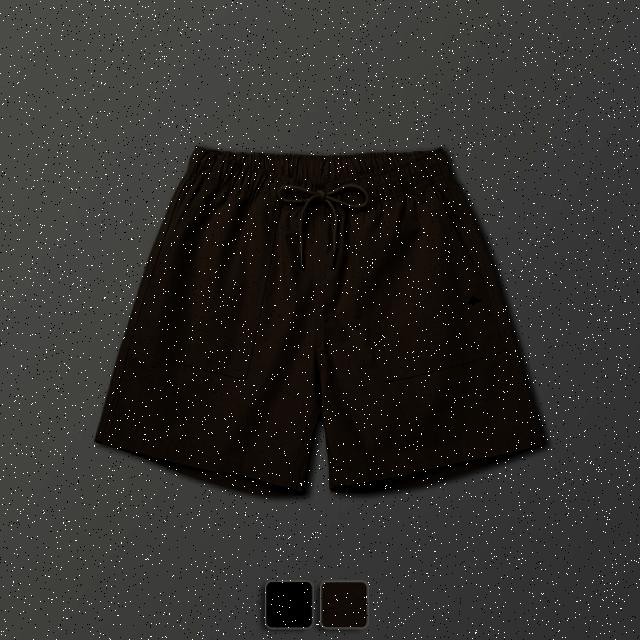Blouse_deep: (101, 147, 547, 484)
